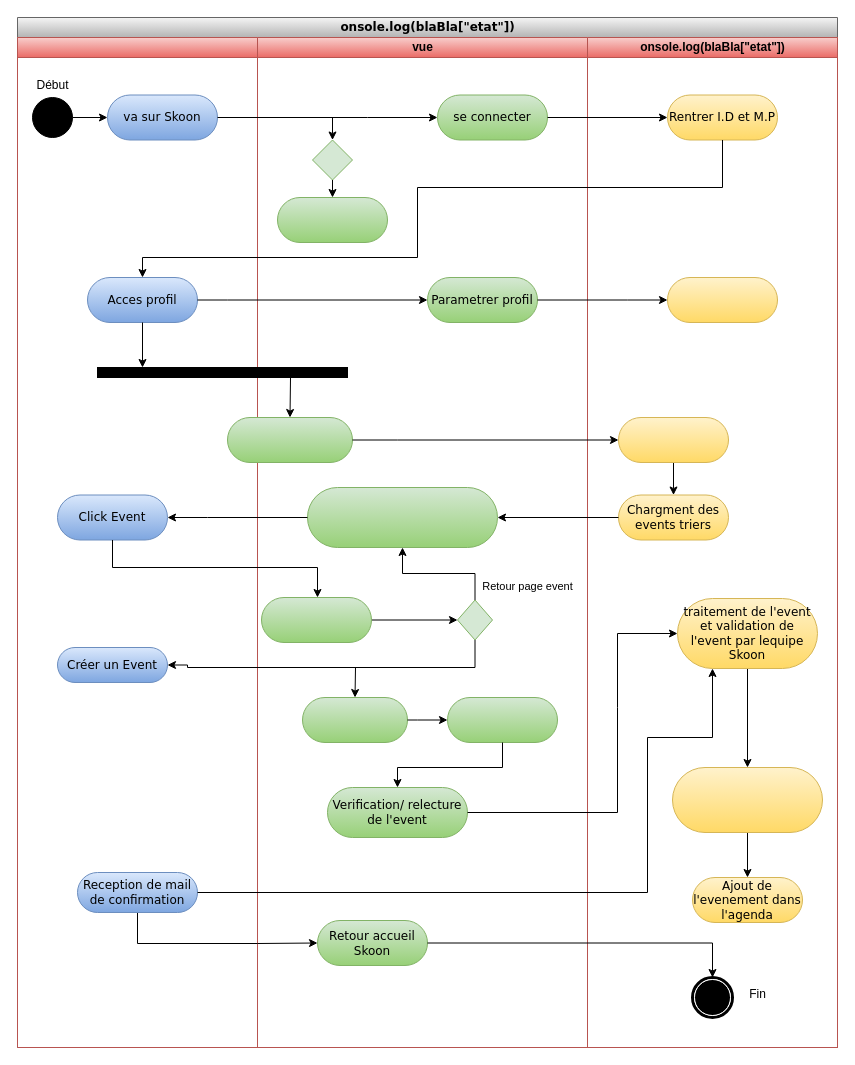
Image size: 855x1065. Some labels were removed from this diagram. Each missing label, with the box of its shape:
Ajout d'equipement: (446, 696, 558, 742)
Ajouter l'event a la BDD des evenement: (672, 766, 822, 832)
Configurer l'event: (302, 696, 408, 742)
Fetch trie event par localisation: (618, 416, 728, 462)
Lancer une recherche d'event: (226, 416, 352, 462)
Lecture de la descrition: (260, 596, 372, 642)
Miniature Event clickable pour voir description complète: (306, 486, 498, 548)
Naviguer sur Skoon: (276, 196, 388, 242)
Nom, Prénom, Adresse...: (666, 276, 778, 322)
